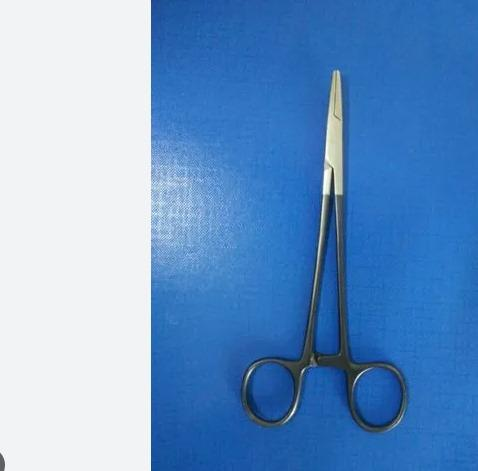Needle Holder: (236, 63, 416, 443)
